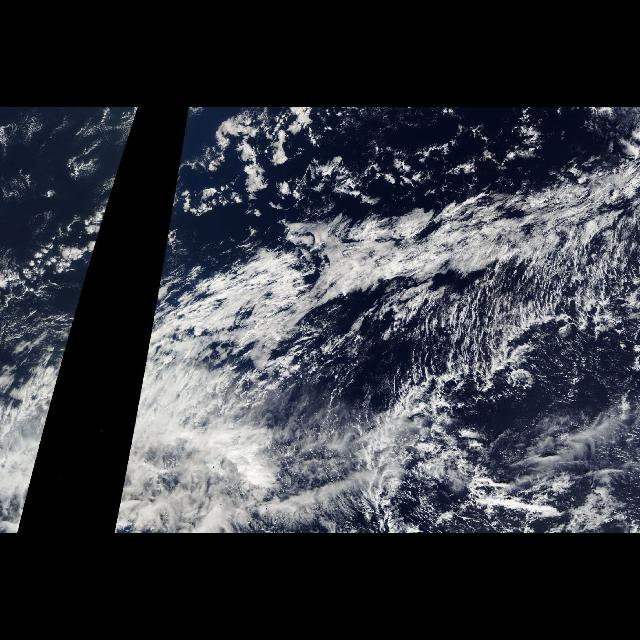Fish: (281, 188, 581, 530)
Sugar: (424, 275, 630, 387)
